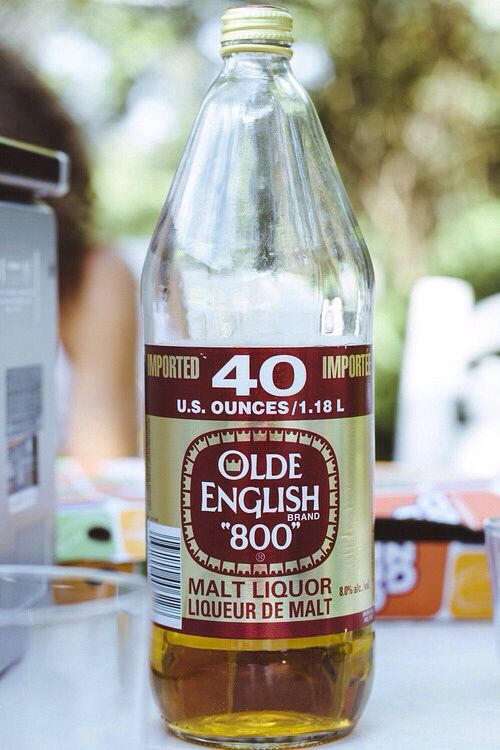glass_bottle: (122, 4, 389, 749)
